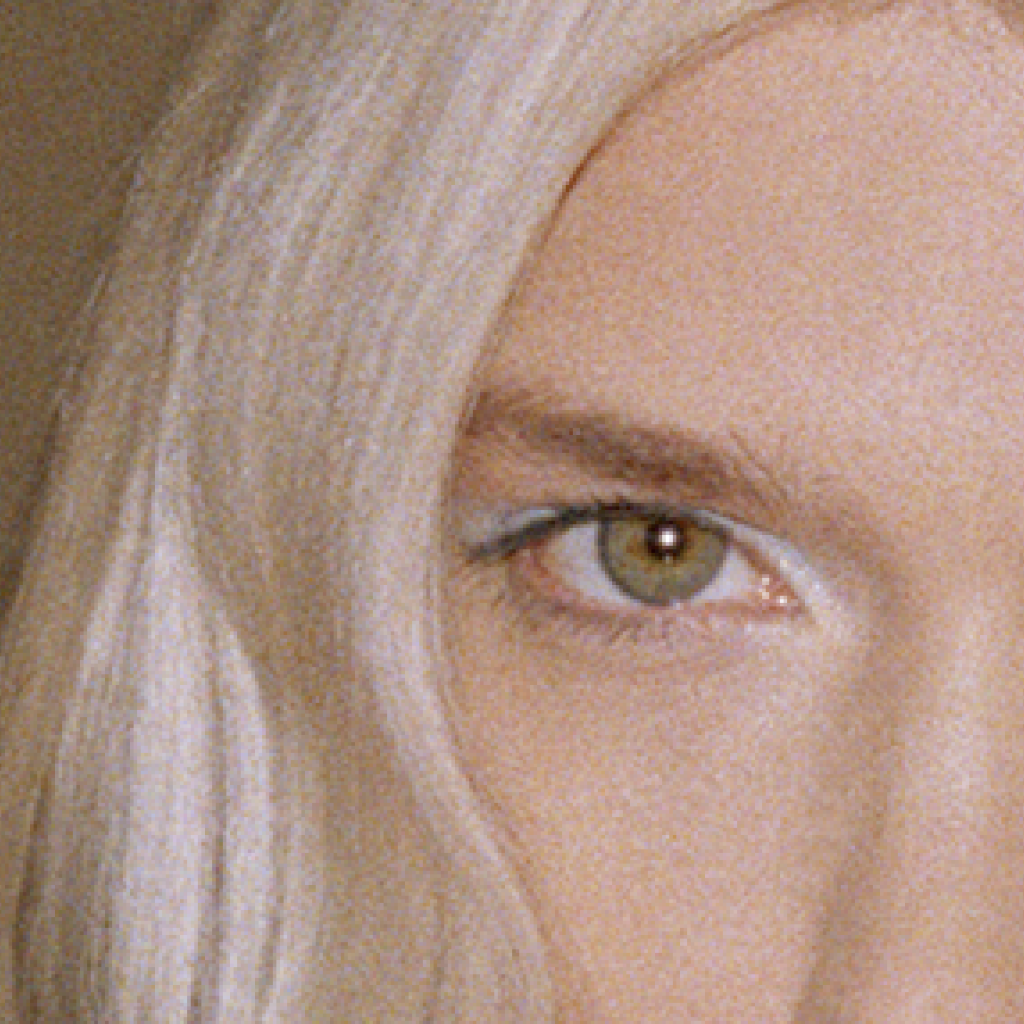iris: (601, 511, 727, 606)
pupil: (647, 518, 689, 560)
sclera: (535, 518, 756, 613)
